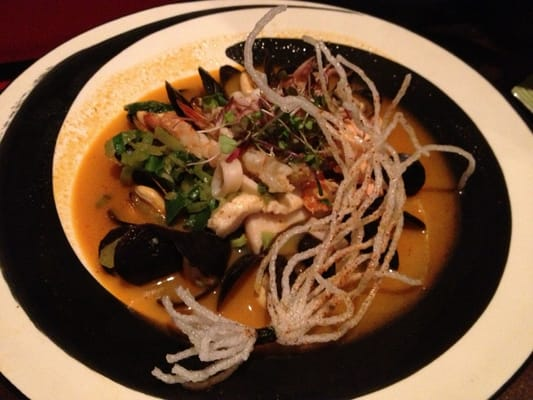sushi: (39, 4, 510, 395)
